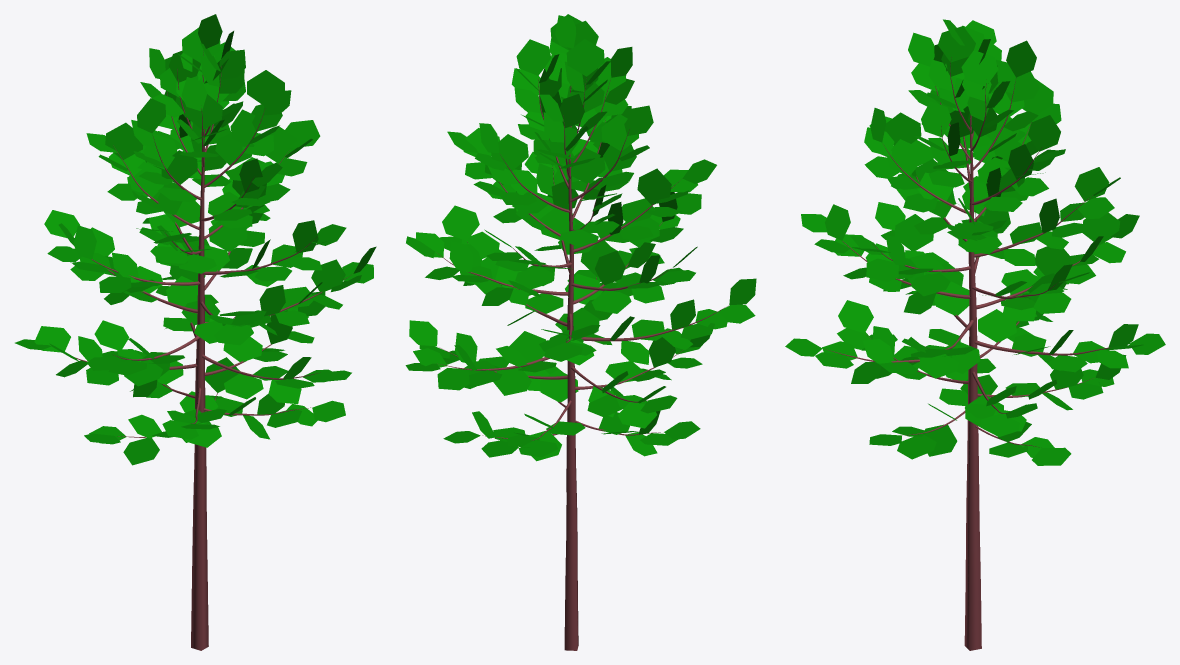
File: tree_2.gltf
3 views of the same model, side by side, from view 1: azimuth 30°, elevation 25°; view 2: azimuth 150°, elevation 25°; view 3: azimuth 270°, elevation 25° (orthographic).
Visible parts, largest first — view 1: leaves.004, tree.004; view 2: leaves.004, tree.004; view 3: leaves.004, tree.004.
Part boxes in pixels (bbox=[...]): leaves.004: bbox=[15, 14, 376, 465]; tree.004: bbox=[74, 51, 350, 650]; leaves.004: bbox=[405, 14, 756, 461]; tree.004: bbox=[436, 78, 728, 650]; leaves.004: bbox=[785, 19, 1165, 465]; tree.004: bbox=[824, 57, 1110, 650].
Size of the model in its own units: 9.08 by 18.22 by 9.82.
